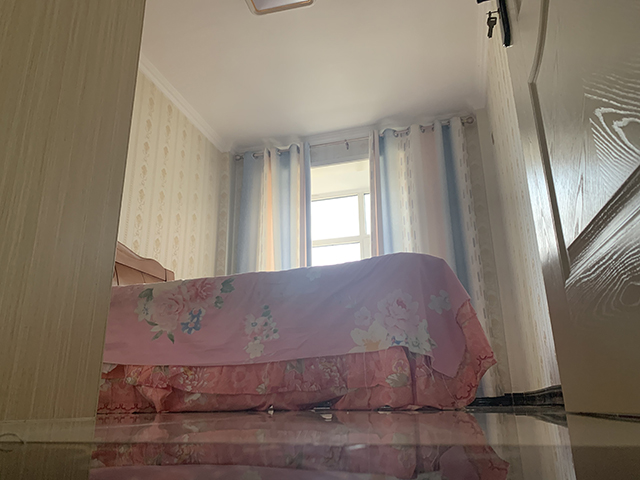bed: (96, 239, 498, 414)
cabinet: (1, 1, 150, 421)
curtain: (368, 104, 507, 400), (222, 140, 311, 270)
